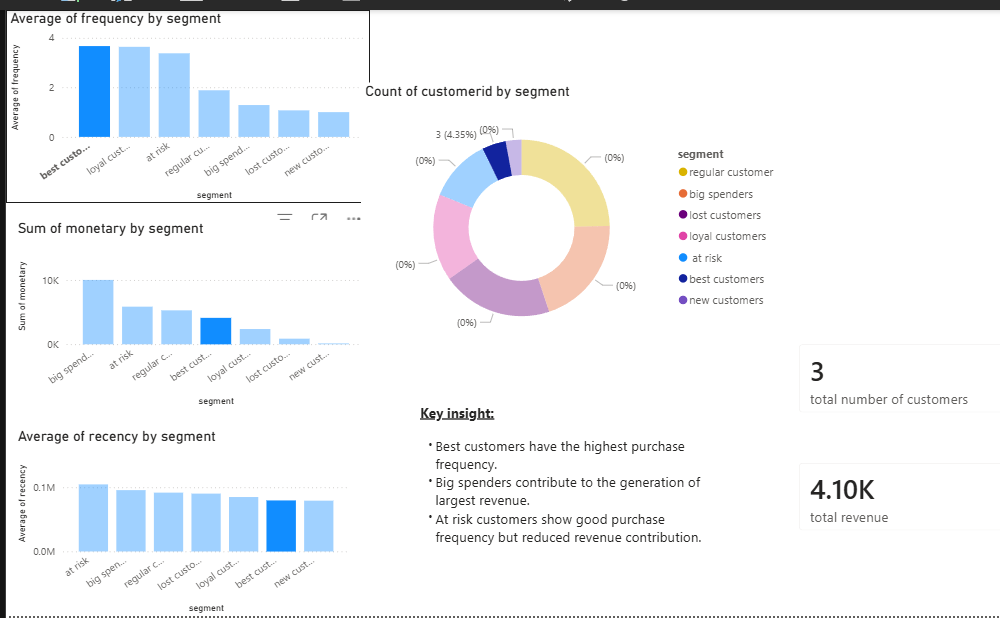

The page's visual inventory and layout, read from the dashboard file:
{"tool":"powerbi","page":{"name":"Page 1","canvas":[1280,720],"ordinal":0},"visuals":[{"type":"clusteredColumnChart","fields":{"Category":["rfmscore.segment"],"Y":["Avg(rfmscore.frequency)"]},"box":[0,0,432.2,230.5],"z":0},{"type":"clusteredColumnChart","fields":{"Category":["rfmscore.segment"],"Y":["Sum(rfmscore.monetary)"]},"box":[9.6,249.7,422.6,226.4],"z":1000},{"type":"clusteredColumnChart","fields":{"Category":["rfmscore.segment"],"Y":["Avg(rfmscore.recency)"]},"box":[9.6,495.4,403.4,225],"z":2000},{"type":"donutChart","fields":{"Category":["rfmscore.segment"],"Y":["CountNonNull(rfmscore.customerid)"]},"box":[421.1,86,504.2,326.2],"z":3000},{"type":"cardVisual","fields":{"Data":["Count(rfmscore.customerid)"]},"box":[923.8,379.6,355.9,115.7],"z":4000},{"type":"cardVisual","fields":{"Data":["Sum(rfmscore.monetary)"]},"box":[923.8,520.5,355.9,114.2],"z":5000},{"type":"textbox","box":[486.4,461.2,372.2,210.6],"z":5001}]}

Visuals, with their boxes on the page's 1280x720 design canvas (x1, y1, x2, y2). These are canvas units, not pixel positions in the 1000x618 screenshot, which may show the page scaled, cropped or inside an application window:
clusteredColumnChart - rfmscore.segment x Avg(rfmscore.frequency): {"x1": 0, "y1": 0, "x2": 432, "y2": 230}
clusteredColumnChart - rfmscore.segment x Sum(rfmscore.monetary): {"x1": 10, "y1": 250, "x2": 432, "y2": 476}
clusteredColumnChart - rfmscore.segment x Avg(rfmscore.recency): {"x1": 10, "y1": 495, "x2": 413, "y2": 720}
donutChart - rfmscore.segment x CountNonNull(rfmscore.customerid): {"x1": 421, "y1": 86, "x2": 925, "y2": 412}
cardVisual - Count(rfmscore.customerid): {"x1": 924, "y1": 380, "x2": 1280, "y2": 495}
cardVisual - Sum(rfmscore.monetary): {"x1": 924, "y1": 520, "x2": 1280, "y2": 635}
textbox: {"x1": 486, "y1": 461, "x2": 859, "y2": 672}
